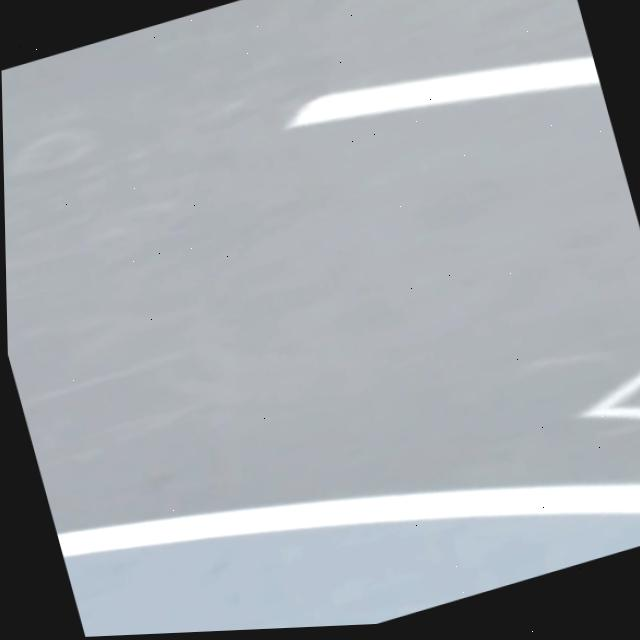center: (286, 57, 600, 129)
left: (56, 484, 640, 558)
